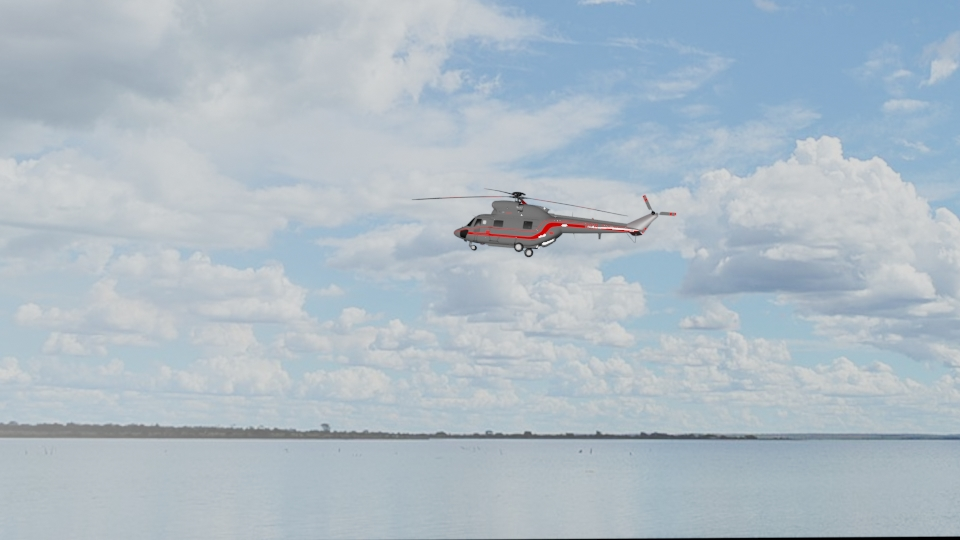heli: (448, 184, 677, 256)
